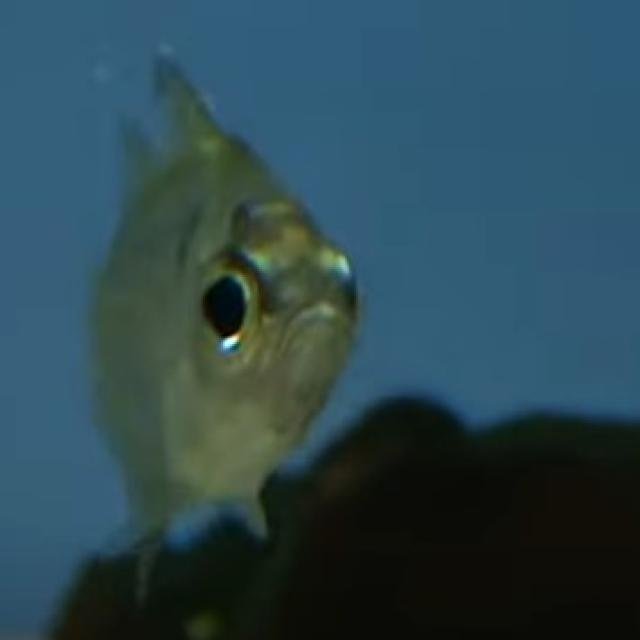Glass-Perchlet: (51, 35, 384, 598)
